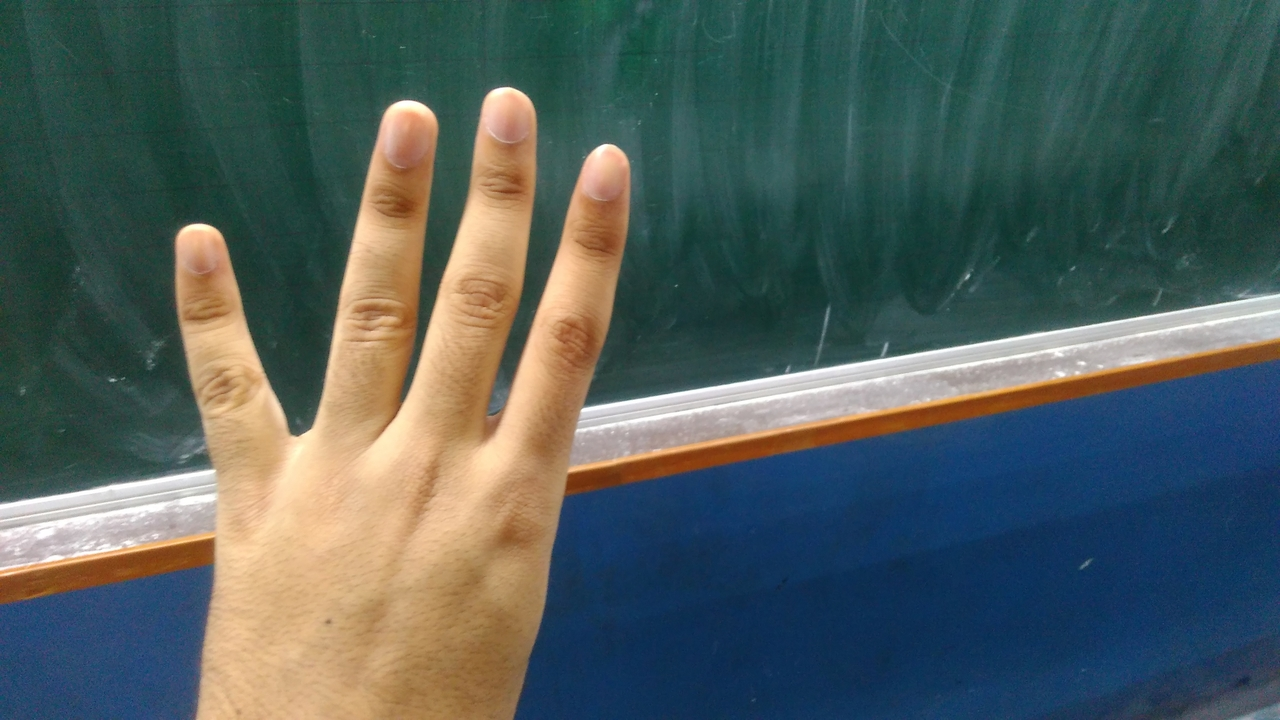fingertip: (368, 100, 436, 166), (166, 220, 228, 288), (470, 84, 534, 148), (572, 138, 632, 204)
